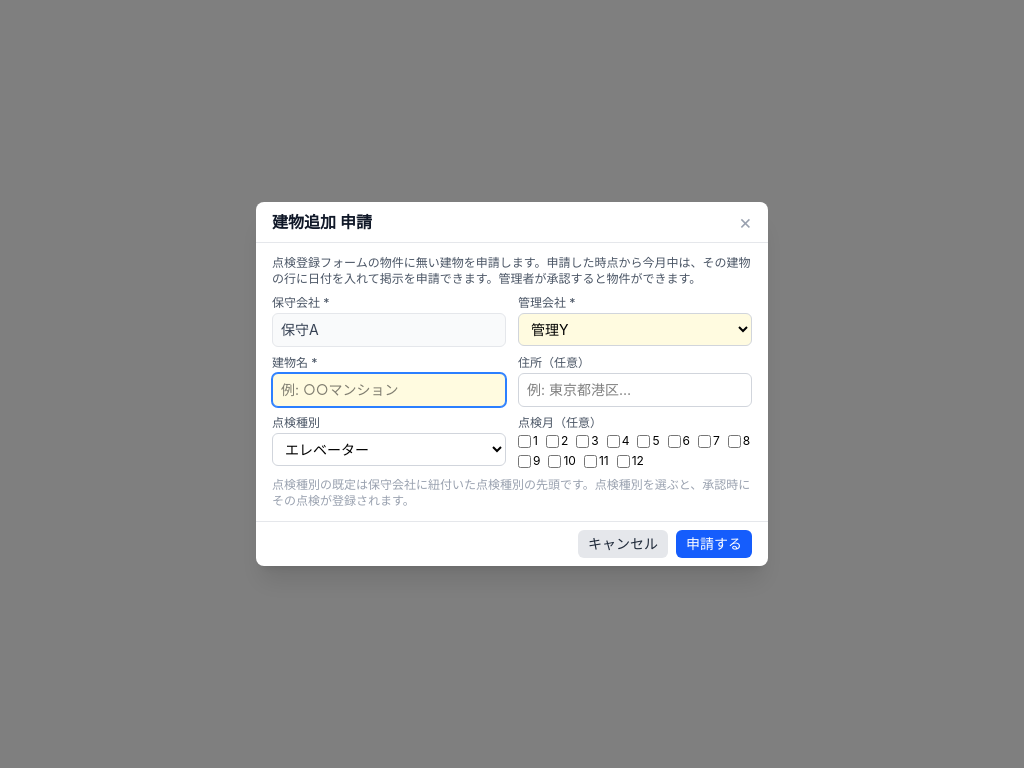
Test case: BuildingRequestModal（保守会社アカウント） › 保守会社は自社に固定・管理会社はフィルターの値・点検種別は紐付けの先頭が既定で、申請後に案内を出す
Expected: the text with test id "buildingRequestVendorFixed" reads "保守A", top-left (281, 321), bottom-right (319, 338)
Expected: the dropdown with id "buildingRequestInspectionType" shows "エレベーター", top-left (272, 433), bottom-right (506, 466)
Type " 新築マンション " into the field with id "buildingRequestName" at (389, 390), box top-left (272, 373), bottom-right (506, 407)
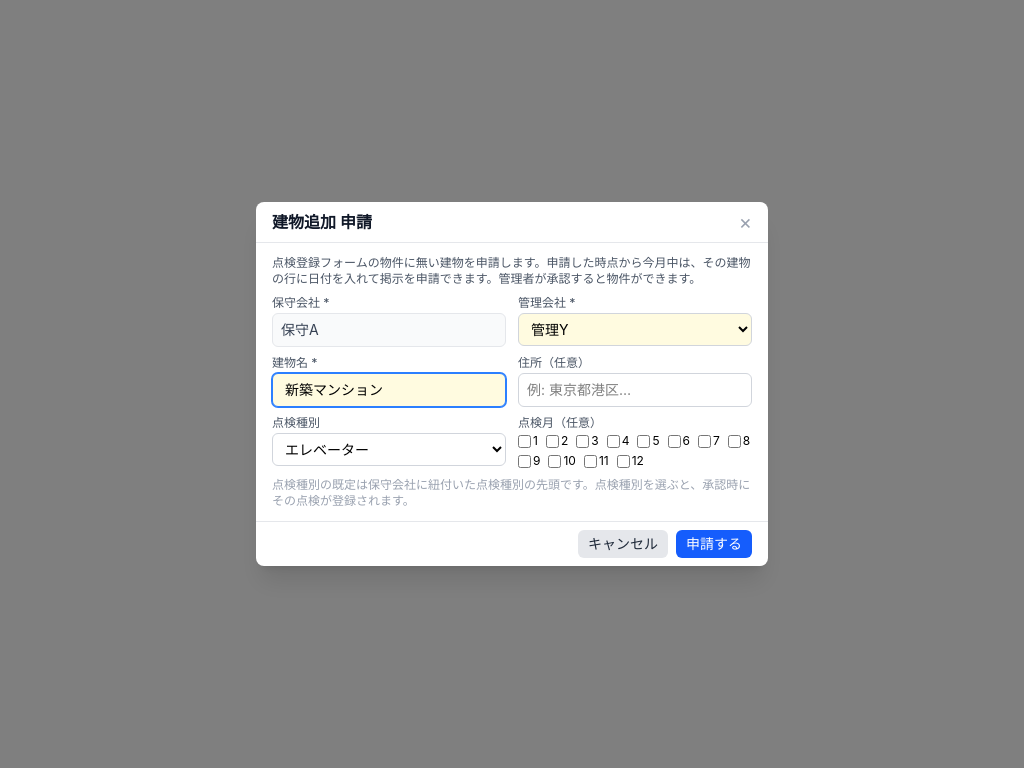
Click the checkbox labelled "4" at (613, 441), box top-left (607, 434), bottom-right (620, 448)
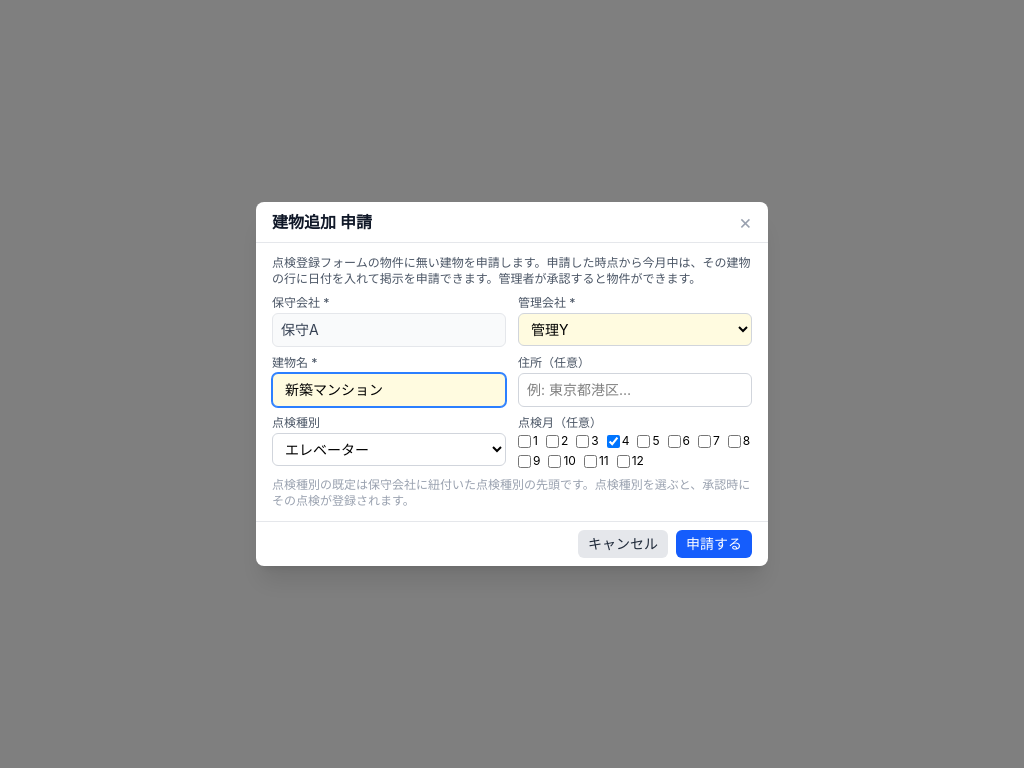
Click the button "申請する" at (714, 544), box top-left (676, 530), bottom-right (752, 558)
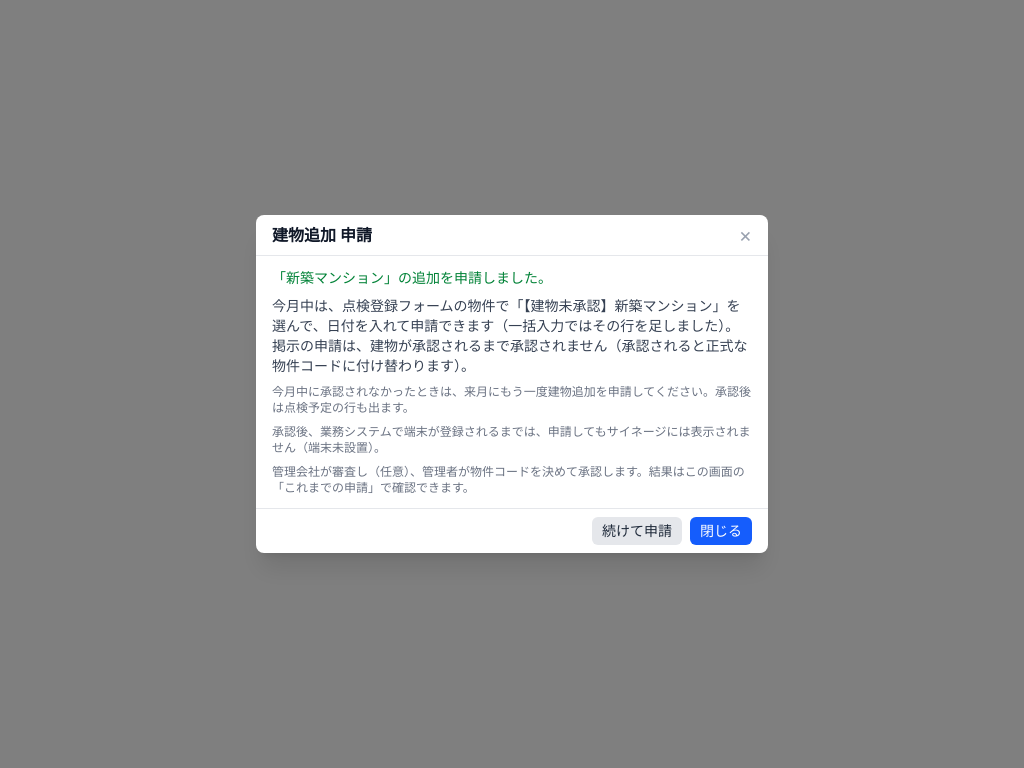
Expected: the text with test id "buildingRequestSubmittedNote" shows "「【建物未承認】新築マンション」を選んで、日付を入れて申請できます", top-left (272, 296), bottom-right (752, 376)
Expected: the text "今月中に承認されなかったときは、来月にもう一度建物追加を申請してください。承認後は点検予定の行も出ます。" is shown, top-left (272, 384), bottom-right (752, 416)
